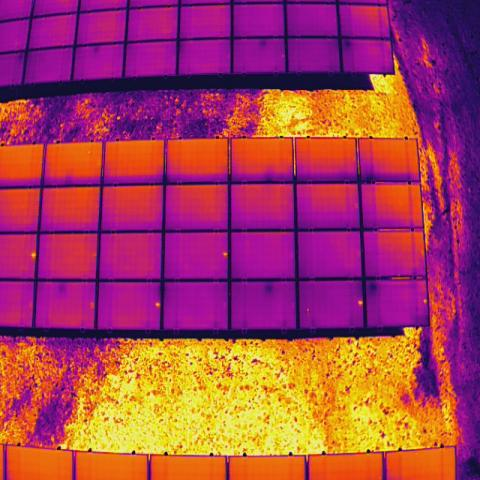fault: (222, 249, 230, 259), (154, 300, 162, 309), (357, 299, 365, 308), (421, 297, 429, 306), (88, 301, 96, 310), (30, 250, 37, 260), (304, 307, 310, 313)
